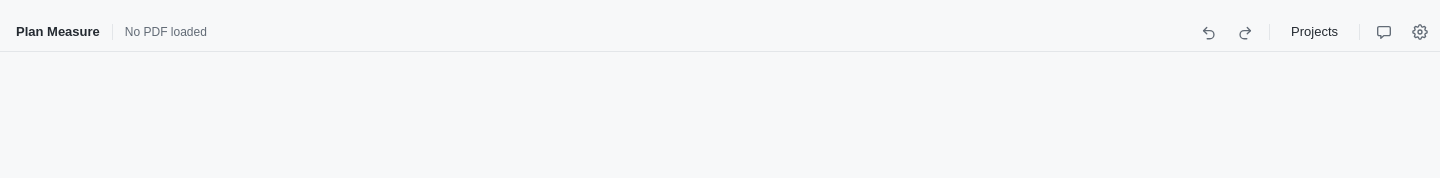
Test: AppBar › keeps Export unavailable before a document is open while retaining Feedback and Settings
Click the button named "Feedback" at (1384, 32), box [1368,16,1400,48]
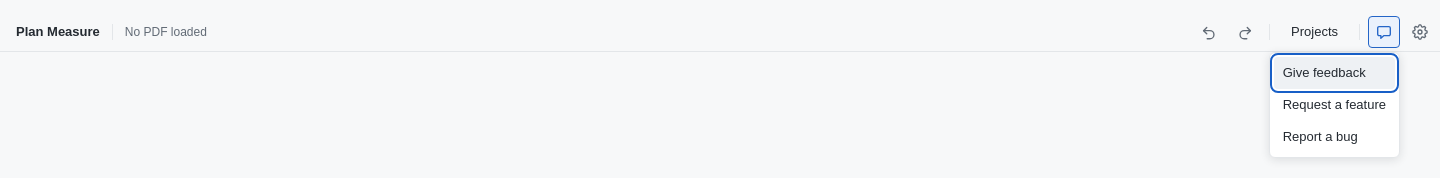
Now the number of menu items is 3, box [1274,56,1395,88]; [1283,96,1386,112]; [1283,128,1358,144]
